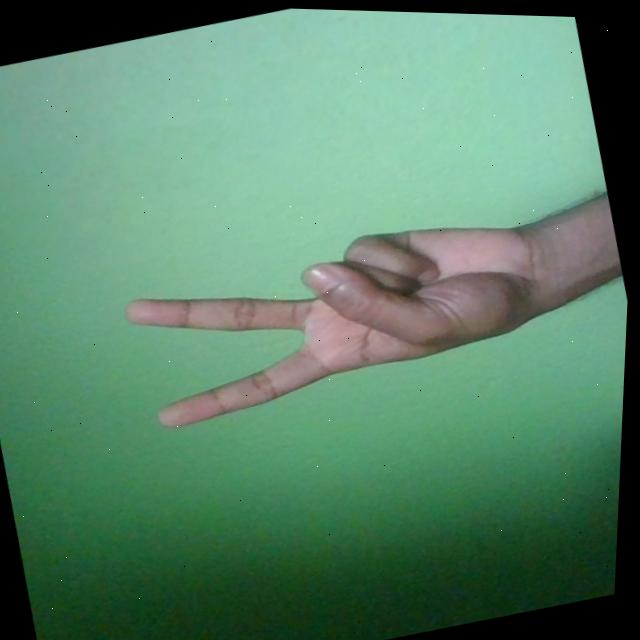Peace: (114, 188, 568, 441)
